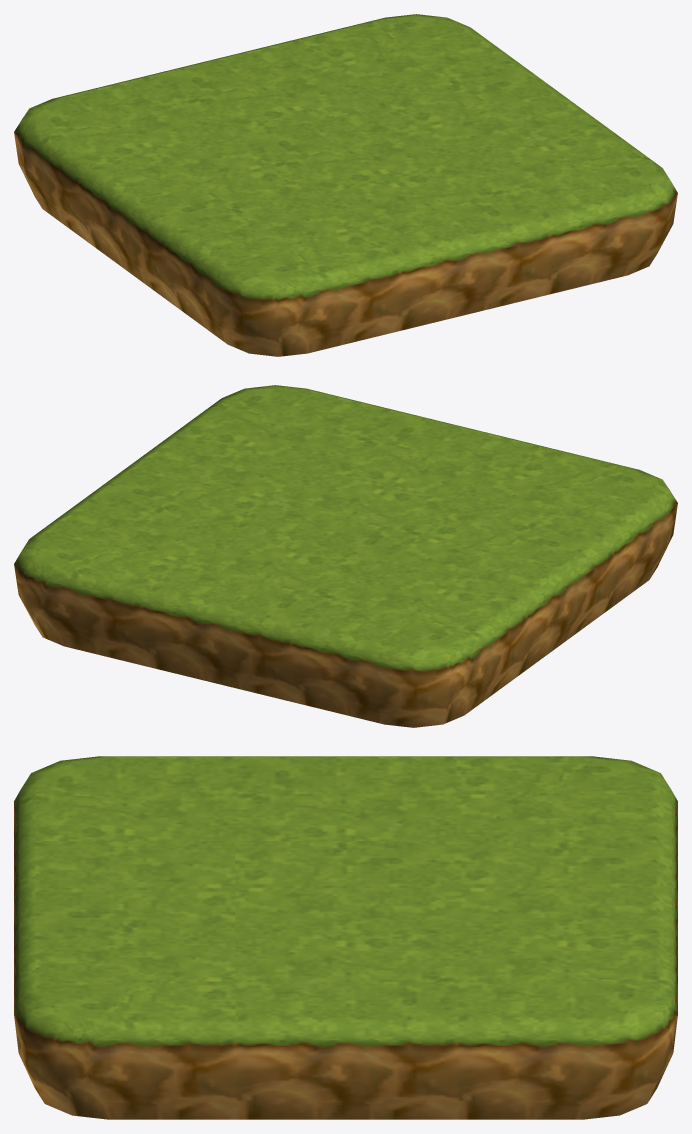
The model's file is Floating_floor01_33.fbx.
3 views of the same model, one above another, from view 1: azimuth 30°, elevation 25°; view 2: azimuth 150°, elevation 25°; view 3: azimuth 270°, elevation 25° (orthographic). The views are drawn at different scales.
Parts seen in each view (by area): view 1: Floating_floor01_33; view 2: Floating_floor01_33; view 3: Floating_floor01_33.
Boxes of the visible parts, bbox=[...] form: Floating_floor01_33: bbox=[14, 14, 677, 356]; Floating_floor01_33: bbox=[14, 385, 677, 727]; Floating_floor01_33: bbox=[14, 756, 677, 1119].
Size of the model in its own units: 3 by 0.5 by 3.
